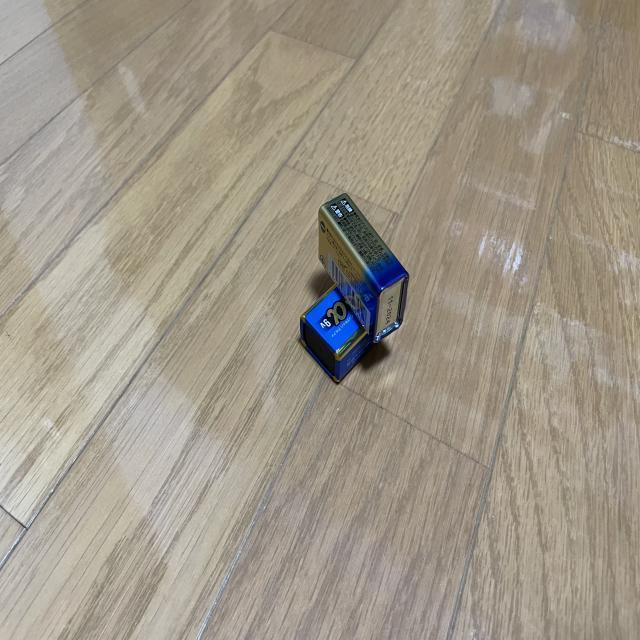9V: (319, 194, 410, 345), (301, 281, 380, 386)
